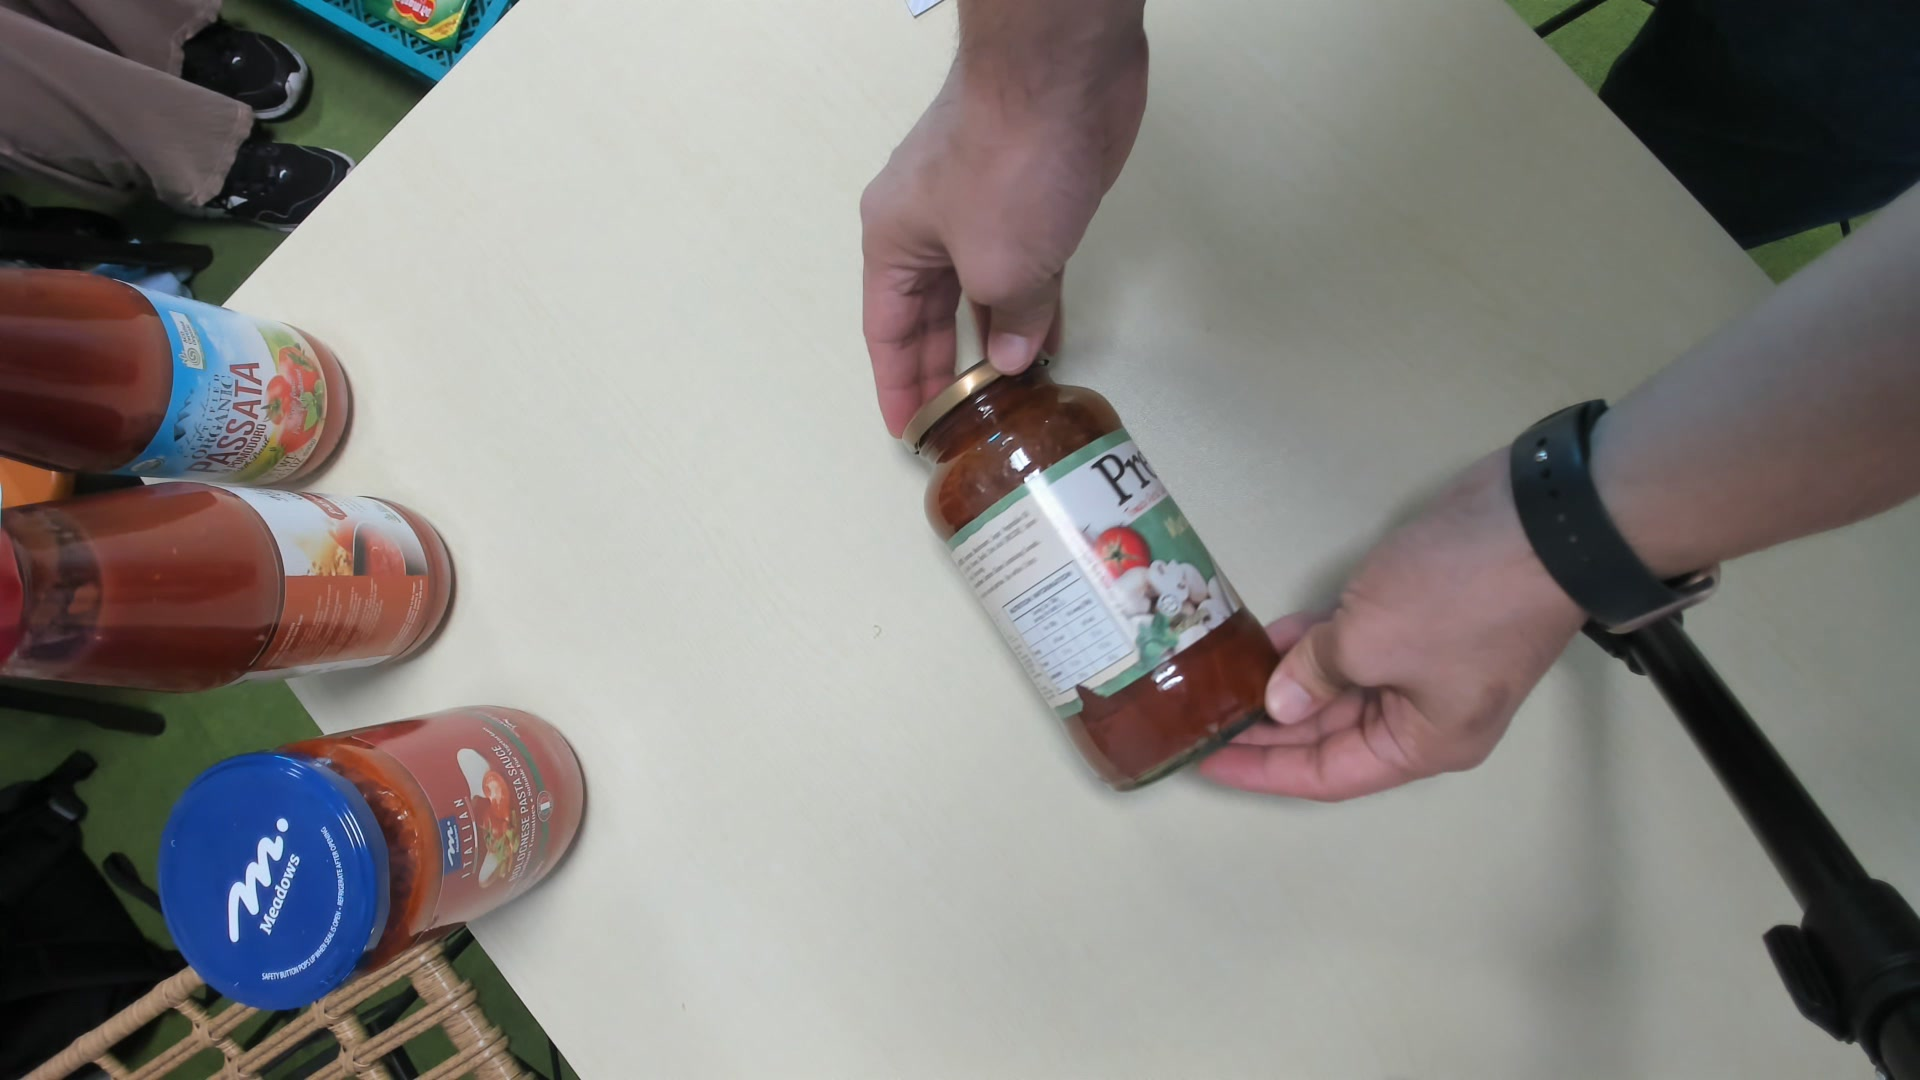PastaSauce_600-699g_Halal_NonHealthy: (905, 344, 1287, 795)
